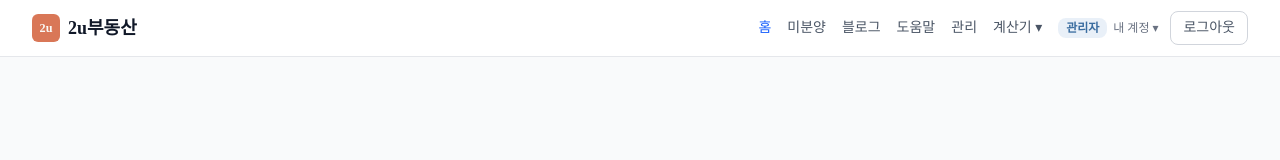
Header — StrictMode 이중 실행에서도 세션 로드 (세션 395 회귀) › StrictMode 렌더 — 계정 메뉴를 열면 세션 이메일이 보인다
This screenshot has width=1280, height=160.
What coordinates should you click on to do the following:
click the button "내 계정 ▾"
I would click on:
 (1136, 28)
Its box is [1113,20,1158,36].
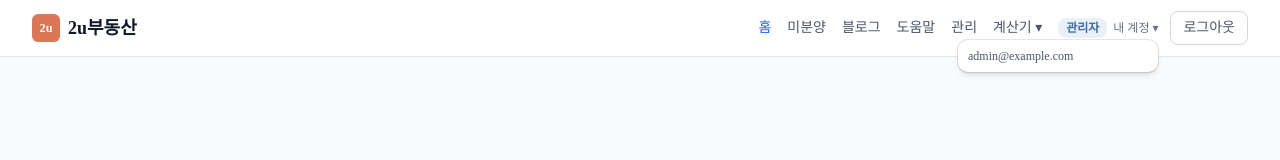
Expected: the text "admin@example.com" is shown, [968,49,1073,63]
